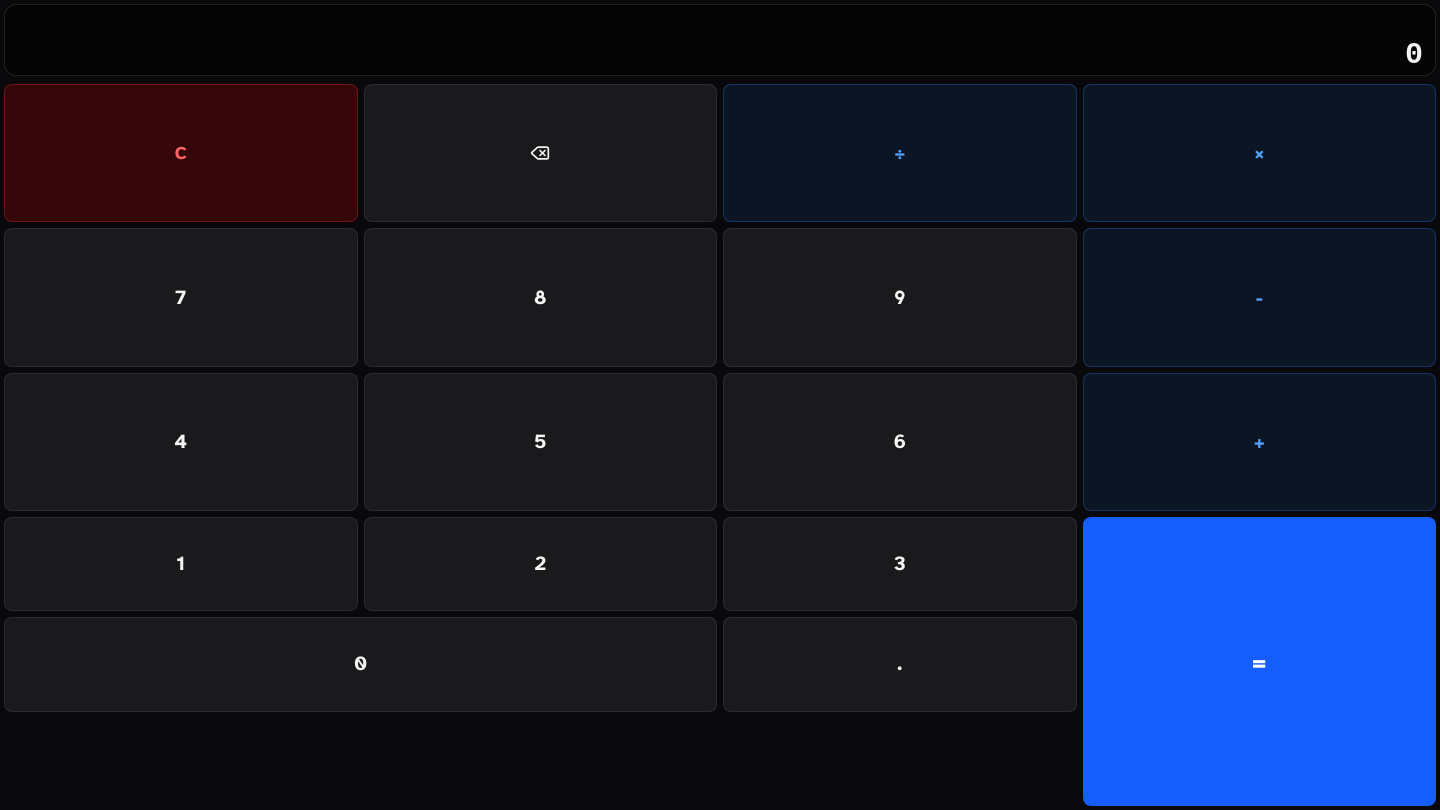
Scenario: CalculatorWidget › handles division by zero by outputting Error
Click the button "8" at coordinates (540, 298), box [364,228,717,367]
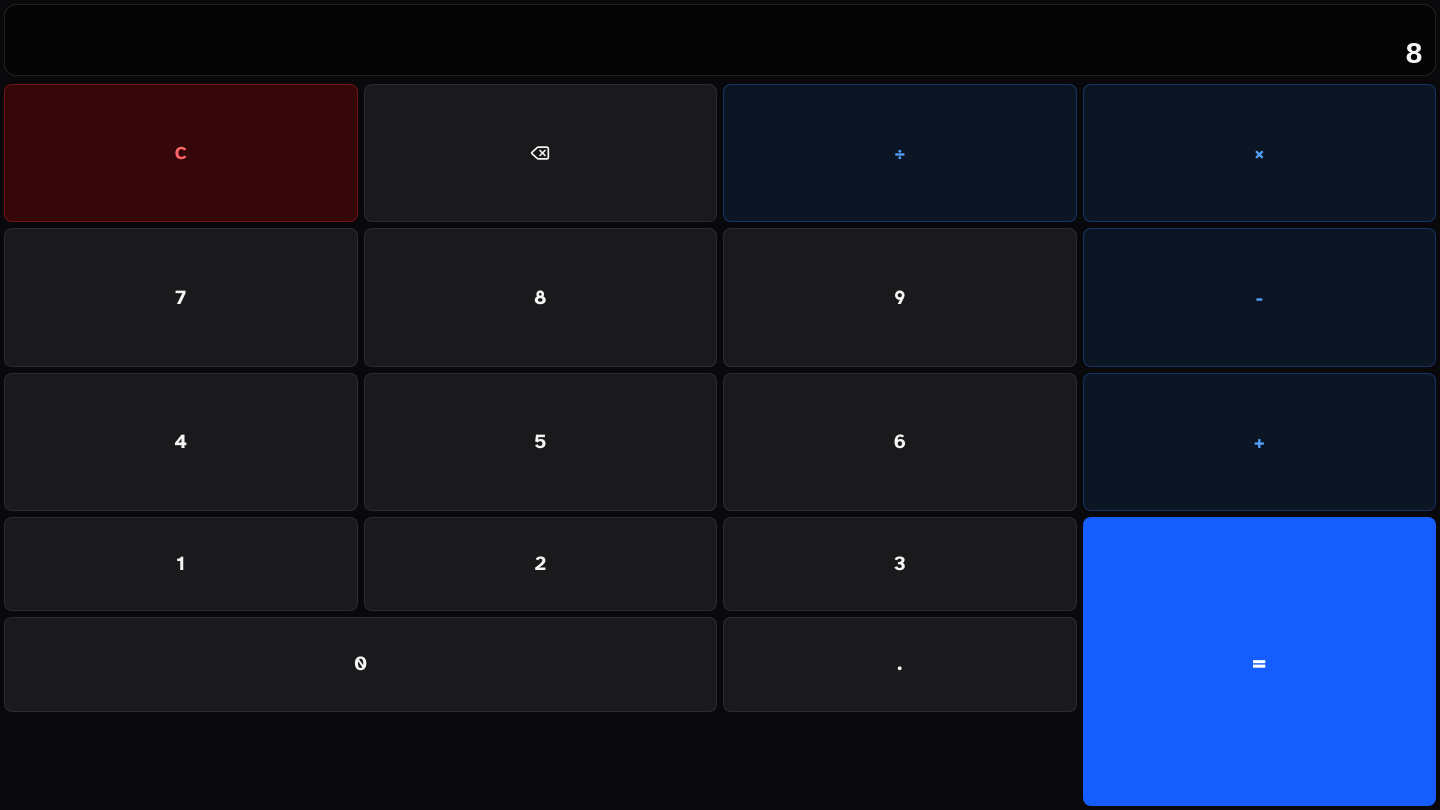
Click the button named "Divide" at coordinates (900, 153), box [723,84,1076,222]
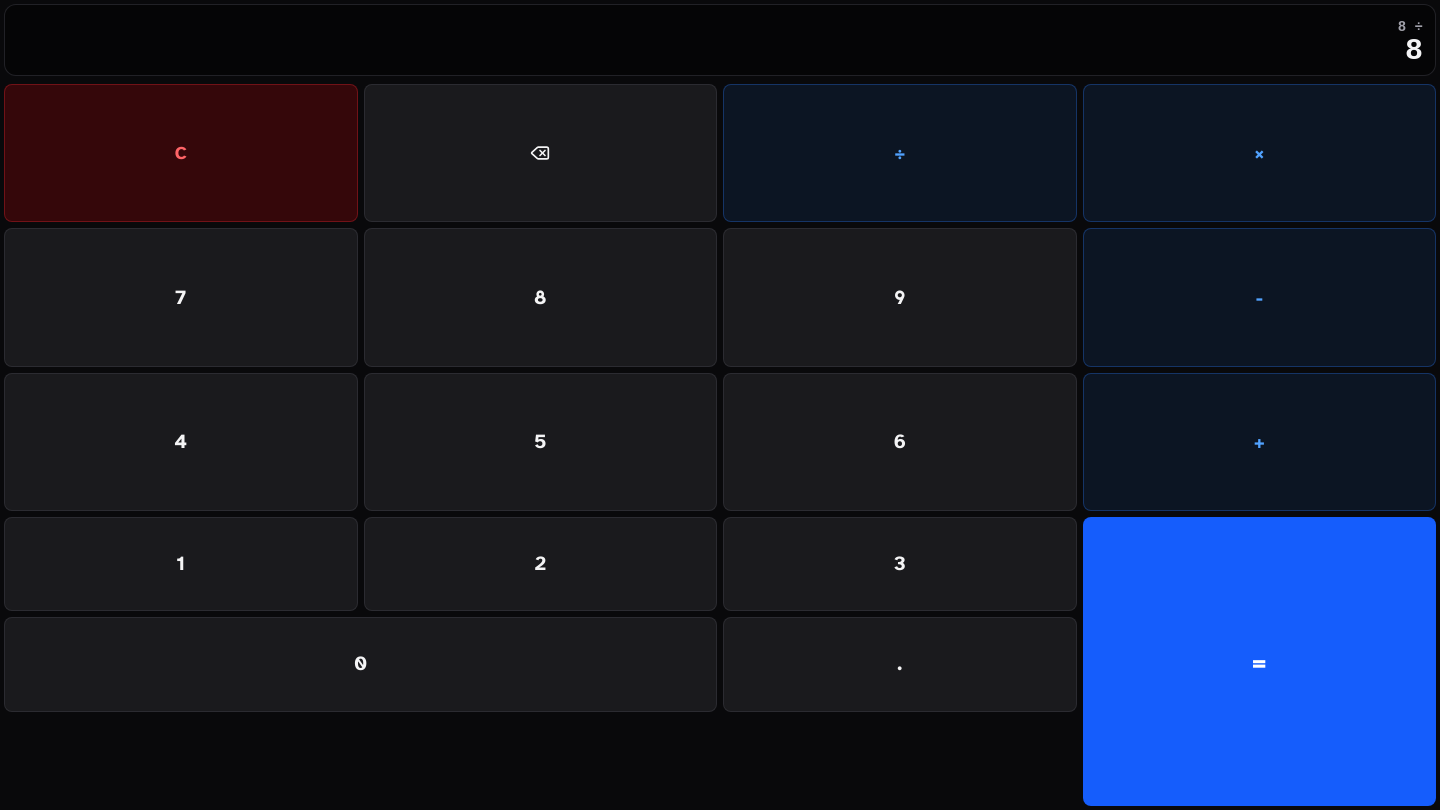
Click the button "0" at coordinates (360, 664), box [4,617,717,712]
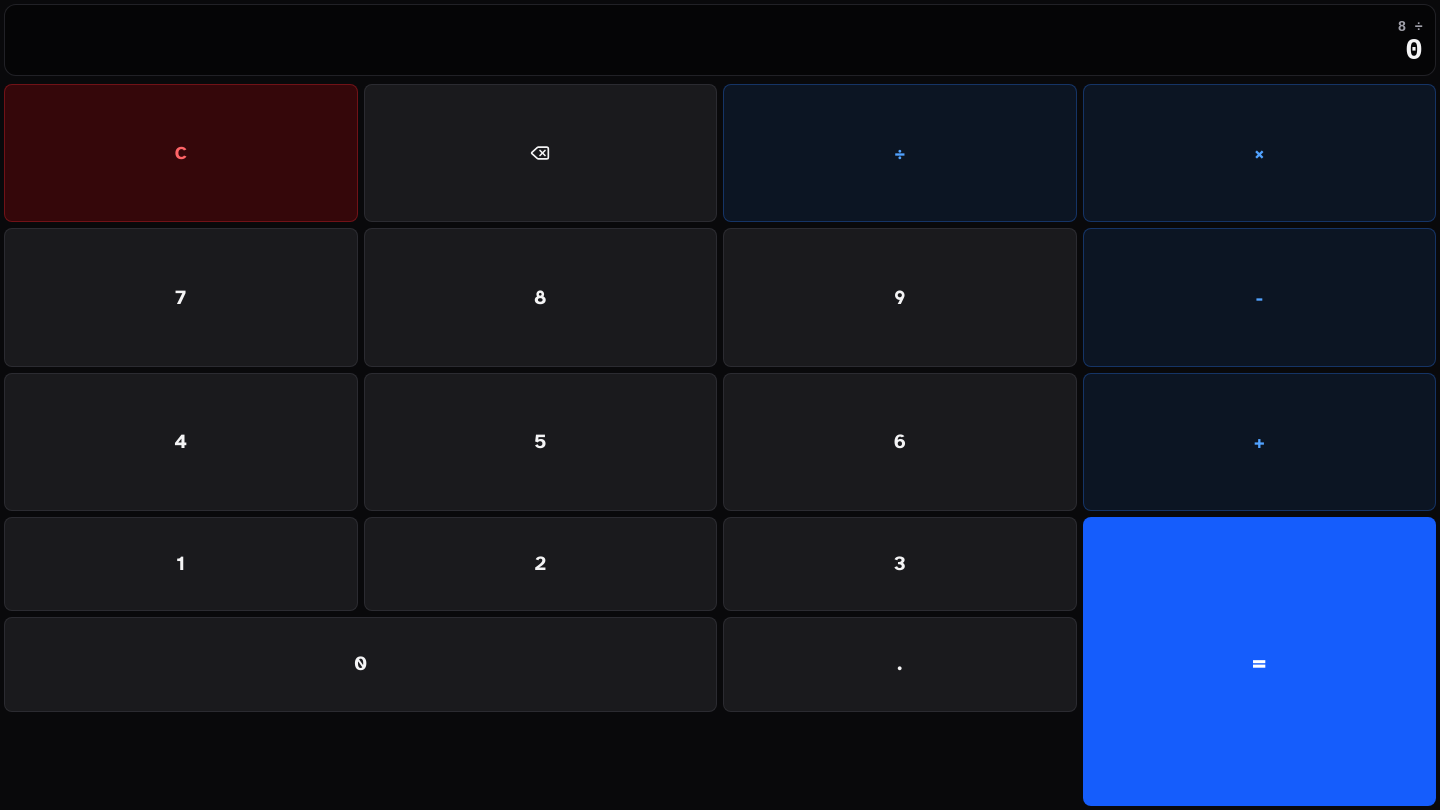
Click the button named "Equals" at coordinates (1259, 662), box [1082,517,1436,806]
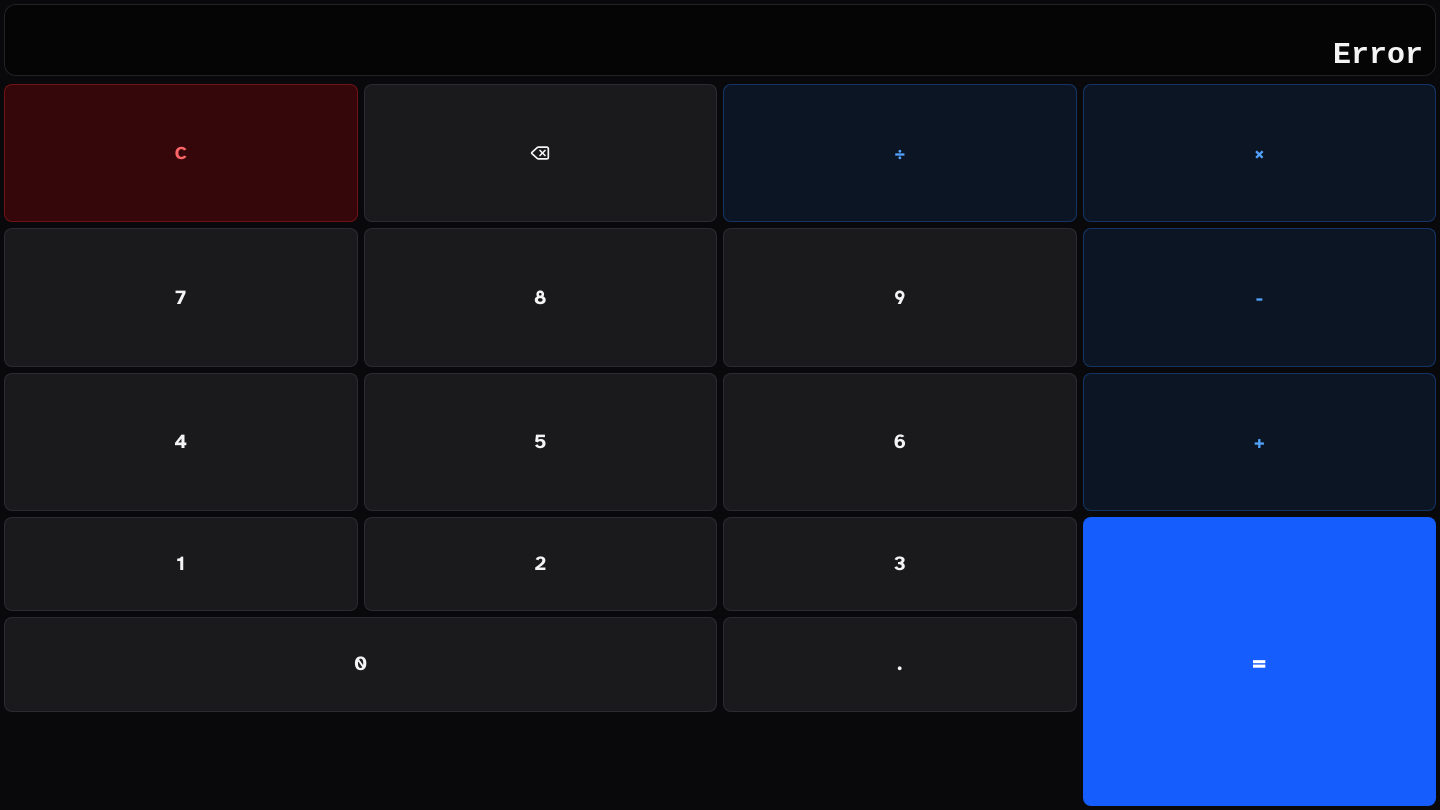
Expected: the text with test id "calc-display" reads "Error", [1333,38,1423,72]
